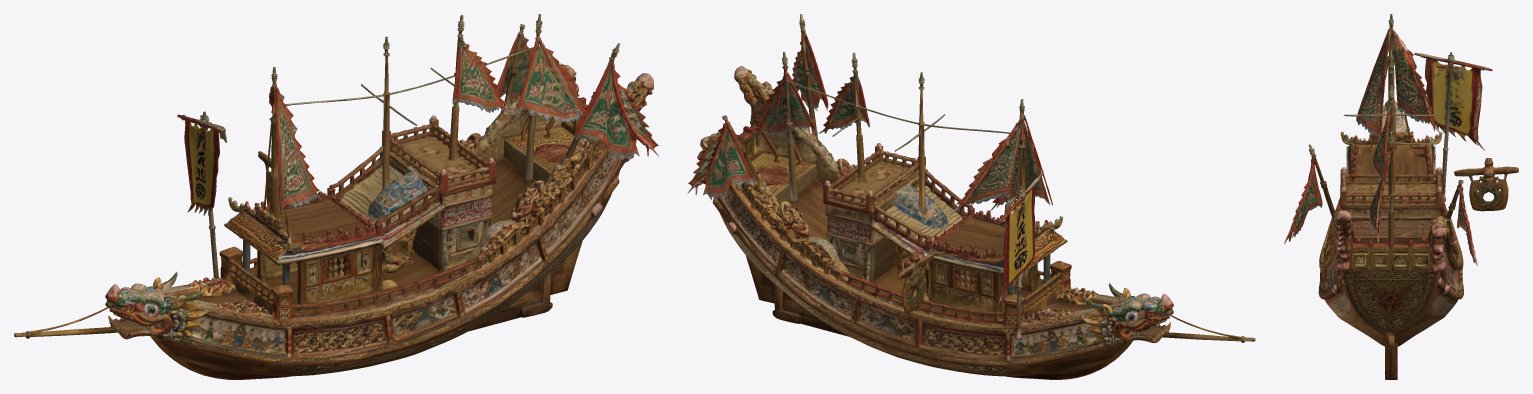
The model's file is wangye-boat.glb.
The picture shows the model from 3 angles, left to right: view 1: azimuth 30°, elevation 25°; view 2: azimuth 150°, elevation 25°; view 3: azimuth 270°, elevation 25°; orthographic projection. The views are drawn at different scales.
Visible parts, largest first — view 1: tripo_node_a4f74460-7c4e-4f91-991a-a52c1602a000; view 2: tripo_node_a4f74460-7c4e-4f91-991a-a52c1602a000; view 3: tripo_node_a4f74460-7c4e-4f91-991a-a52c1602a000.
Part boxes in pixels (x1=…): tripo_node_a4f74460-7c4e-4f91-991a-a52c1602a000: x1=14, y1=14, x2=658, y2=379; tripo_node_a4f74460-7c4e-4f91-991a-a52c1602a000: x1=687, y1=14, x2=1255, y2=379; tripo_node_a4f74460-7c4e-4f91-991a-a52c1602a000: x1=1284, y1=14, x2=1518, y2=379.
Size of the model in its own units: 0.9829 by 0.4945 by 0.3952.
1 material, 1 textured.
